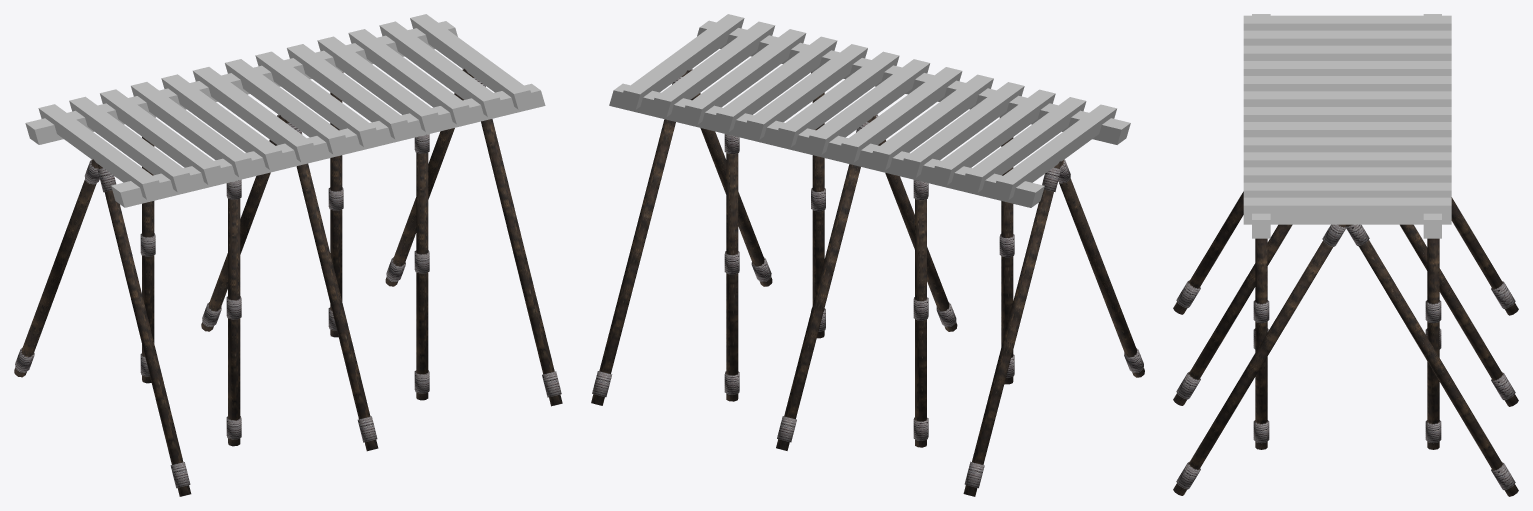
File: Stick6.fbx
The picture shows the model from 3 angles, left to right: view 1: azimuth 30°, elevation 25°; view 2: azimuth 150°, elevation 25°; view 3: azimuth 270°, elevation 25°; orthographic projection.
Parts seen in each view (by area): view 1: Cylinder.013; view 2: Cylinder.013; view 3: Cylinder.013.
Boxes of the visible parts, x1,y1,x2,y2 form: Cylinder.013: (14,14,562,496); Cylinder.013: (591,14,1144,496); Cylinder.013: (1173,14,1518,496).
Size of the model in its own units: 848 by 558 by 597.
